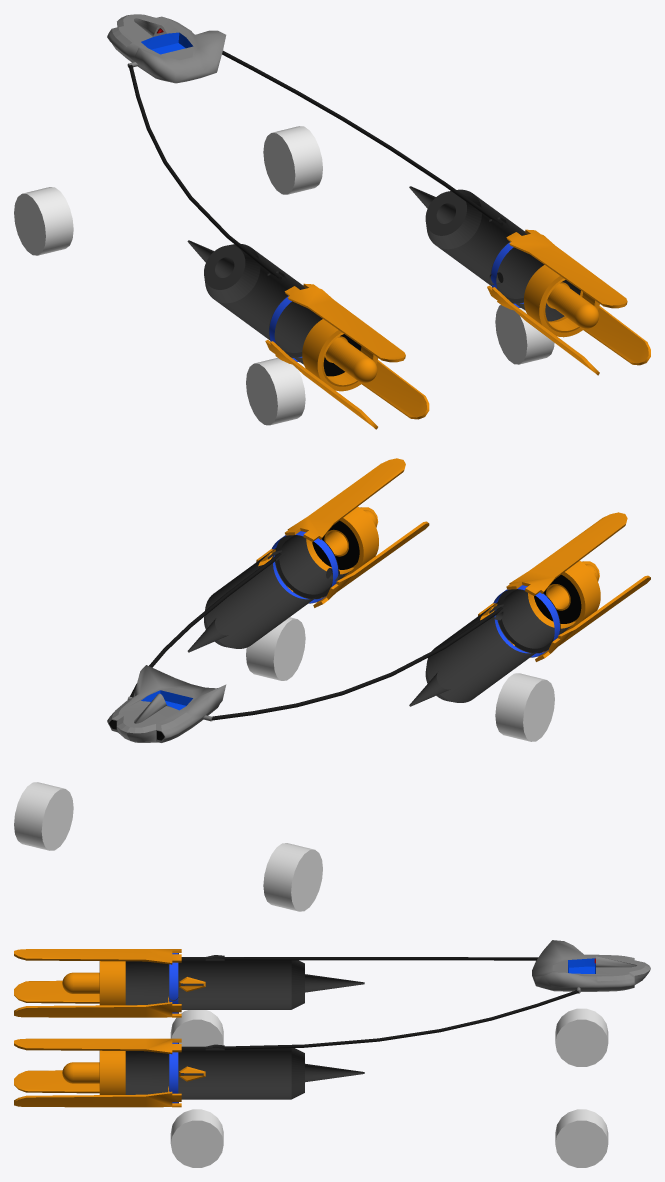
The model's file is Pod5.FBX.
The picture shows the model from 3 angles, top to bottom: view 1: azimuth 30°, elevation 25°; view 2: azimuth 150°, elevation 25°; view 3: azimuth 270°, elevation 25°; orthographic projection. The views are drawn at different scales.
Parts seen in each view (by area): view 1: Pod Racer, Rear_Left_Wheel, Rear_Right_Wheel, Front_Left_Wheel, Front_Right_Wheel; view 2: Pod Racer, Rear_Left_Wheel, Front_Left_Wheel, Rear_Right_Wheel, Front_Right_Wheel; view 3: Pod Racer, Rear_Right_Wheel, Rear_Left_Wheel, Front_Right_Wheel, Front_Left_Wheel.
Part boxes in pixels (x1,y1,x2,y2): Pod Racer: (107,14,650,429); Rear_Left_Wheel: (14,187,73,255); Rear_Right_Wheel: (263,126,322,194); Front_Left_Wheel: (246,357,305,425); Front_Right_Wheel: (495,305,554,364); Pod Racer: (107,458,650,742); Rear_Left_Wheel: (263,843,322,911); Front_Left_Wheel: (495,673,554,741); Rear_Right_Wheel: (14,782,73,850); Front_Right_Wheel: (246,617,305,680); Pod Racer: (14,940,650,1107); Rear_Right_Wheel: (555,1109,608,1167); Rear_Left_Wheel: (555,1008,608,1066); Front_Right_Wheel: (170,1109,223,1167); Front_Left_Wheel: (170,1010,223,1046).
Size of the model in its own units: 210 by 130 by 480.
